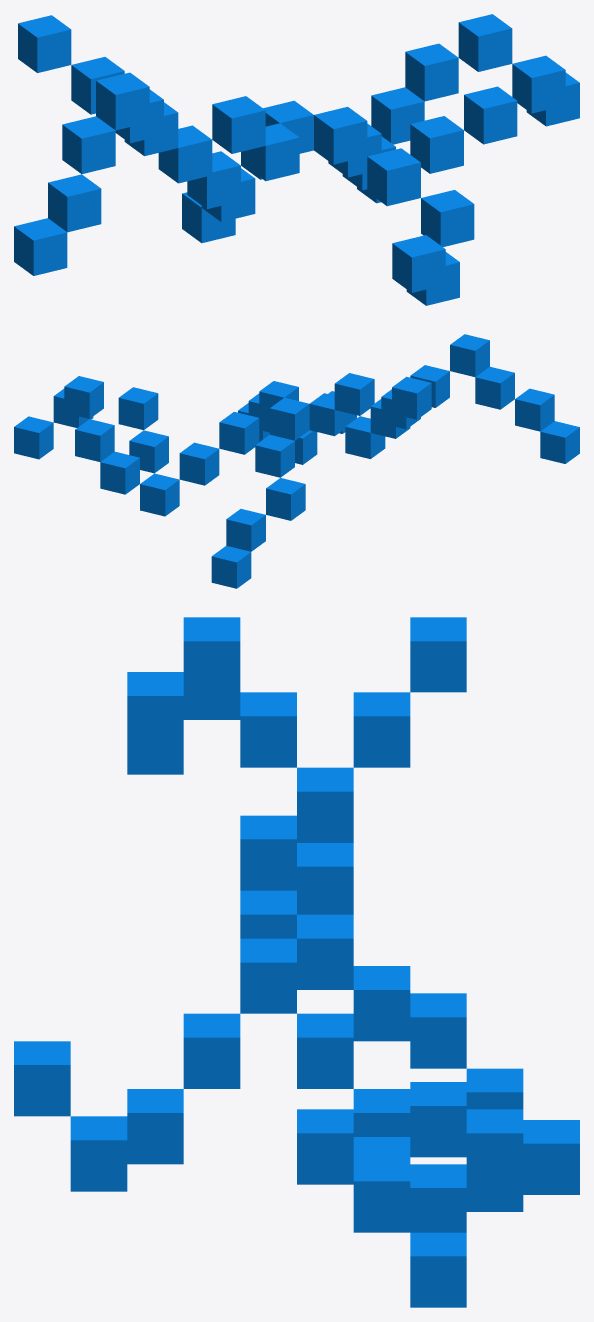
Rendered from VoxelEffects_Electro_02.FBX.
3 views of the same model, one above another, from view 1: azimuth 30°, elevation 25°; view 2: azimuth 150°, elevation 25°; view 3: azimuth 270°, elevation 25° (orthographic). The views are drawn at different scales.
Visible parts, largest first — view 1: VoxelEffects_Electro_02; view 2: VoxelEffects_Electro_02; view 3: VoxelEffects_Electro_02.
Part boxes in pixels (<box>): VoxelEffects_Electro_02: <box>14,14,579,305</box>; VoxelEffects_Electro_02: <box>14,334,579,588</box>; VoxelEffects_Electro_02: <box>14,617,579,1307</box>.
Size of the model in its own units: 190 by 80 by 100.
